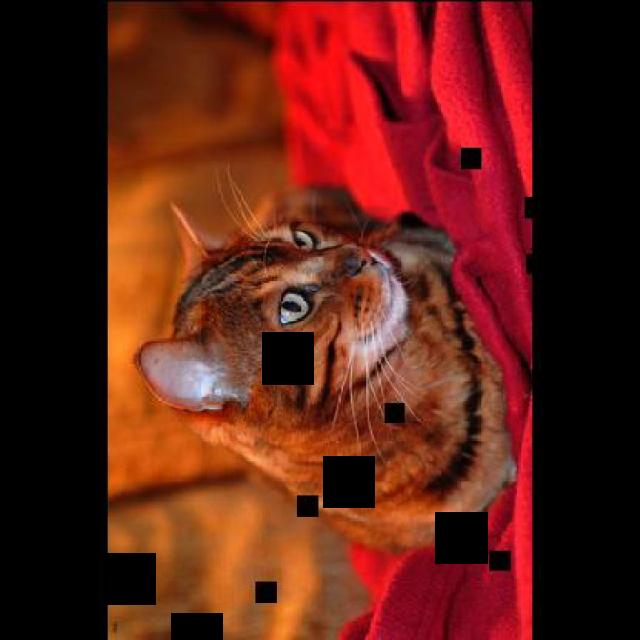unauthorized: (132, 163, 518, 555)
